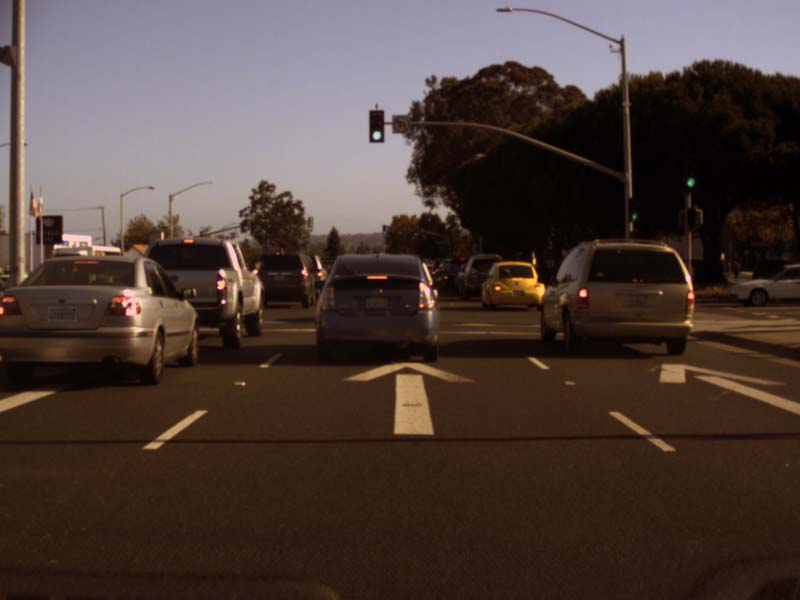Green: (683, 152, 697, 189), (369, 110, 383, 142), (628, 198, 639, 221)
